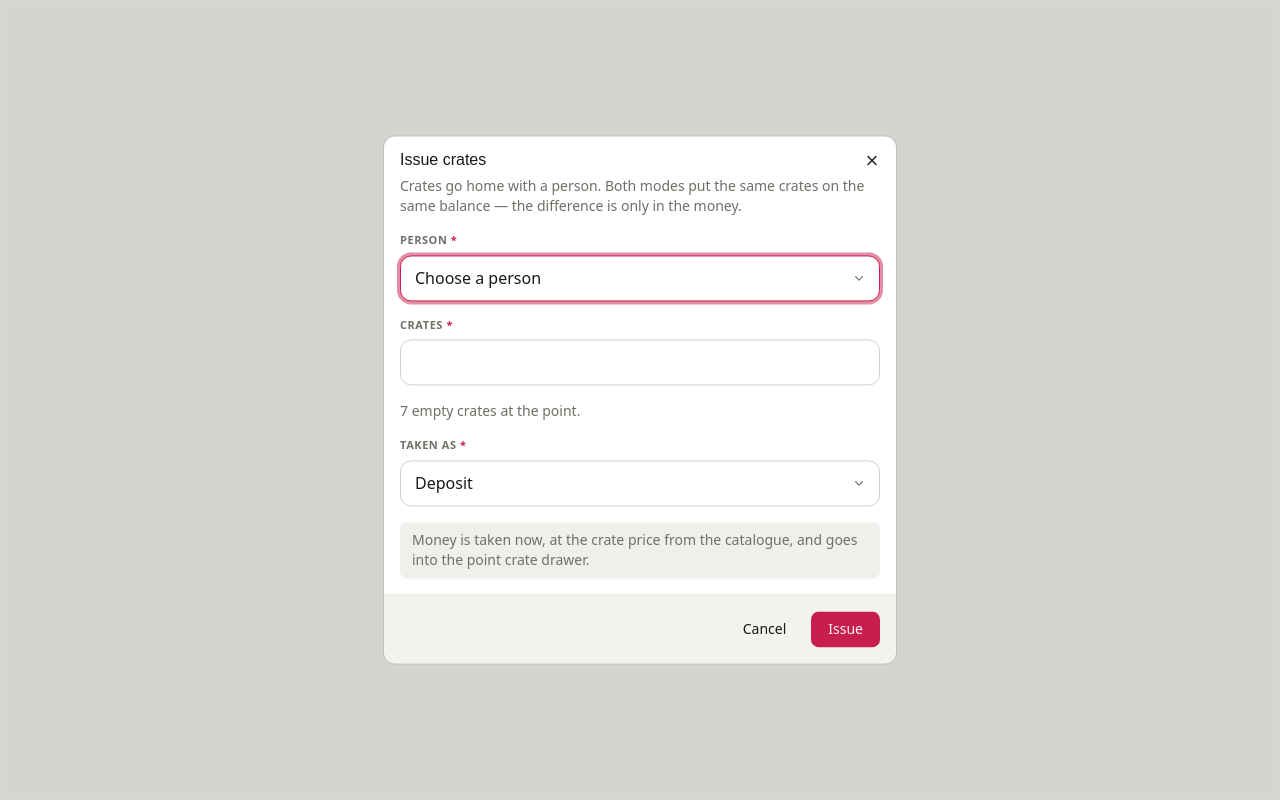
Test: IssueCratesDialog › refuses more than the point has, before asking the server
Select "Василь Яремчук" in the dropdown labelled "Person". click: coordinates (640, 278)
box: [400, 255, 880, 301]
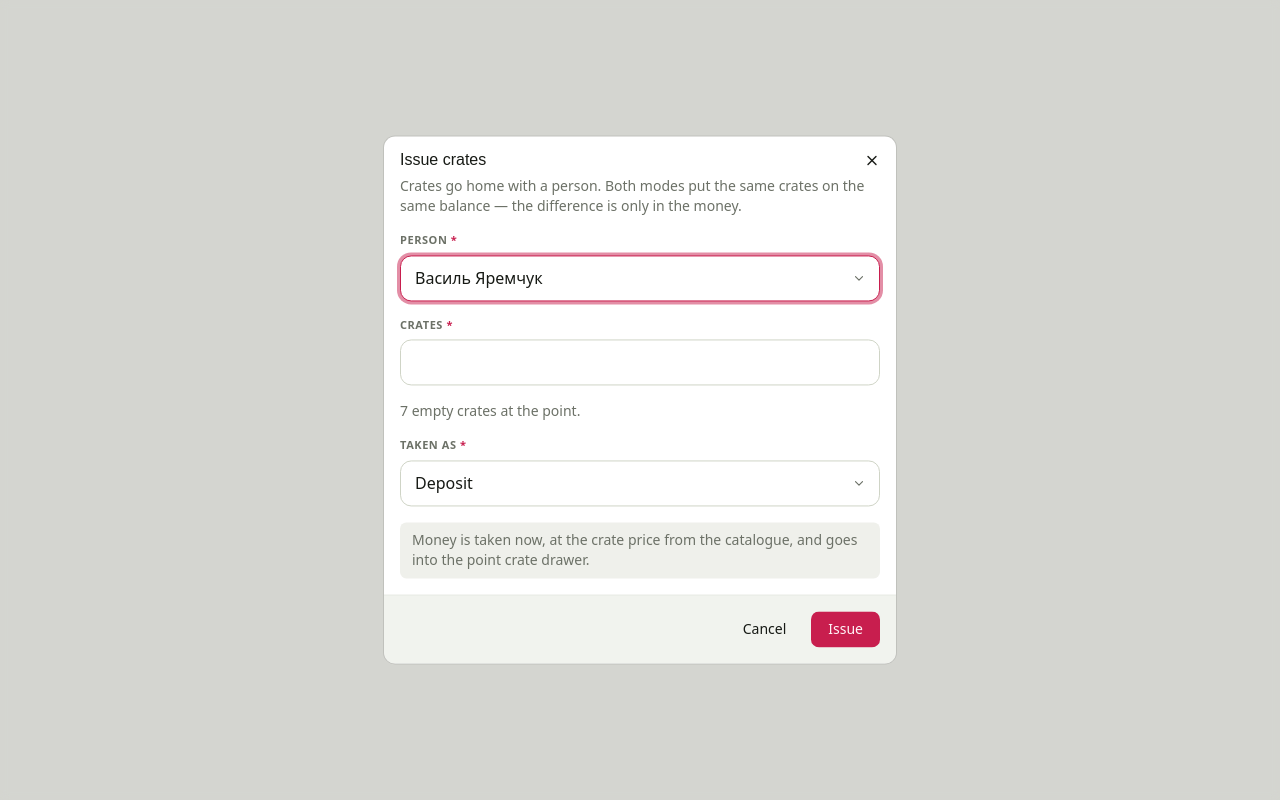
Type "8" into the field labelled "Crates". click: coordinates (640, 363)
box: [400, 340, 880, 386]
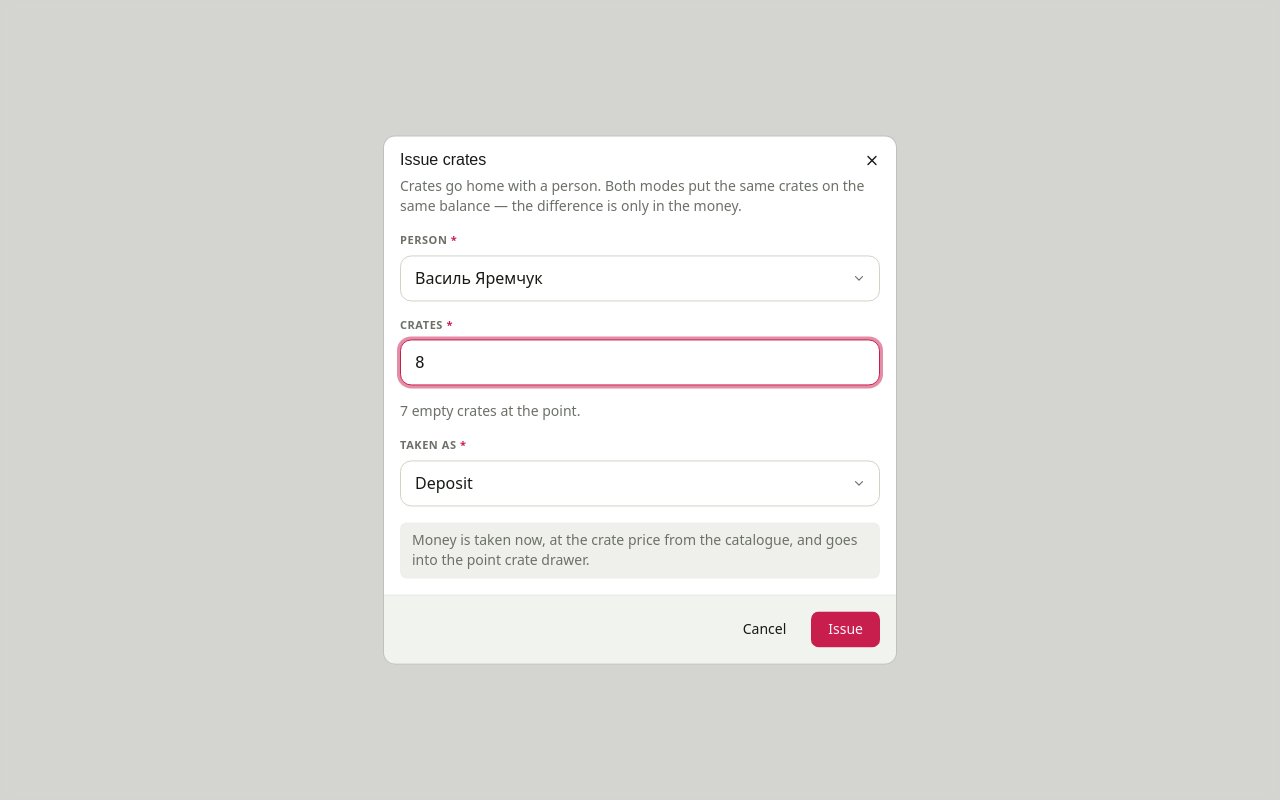
Click the button "Issue". click: coordinates (846, 630)
box: [811, 612, 880, 648]
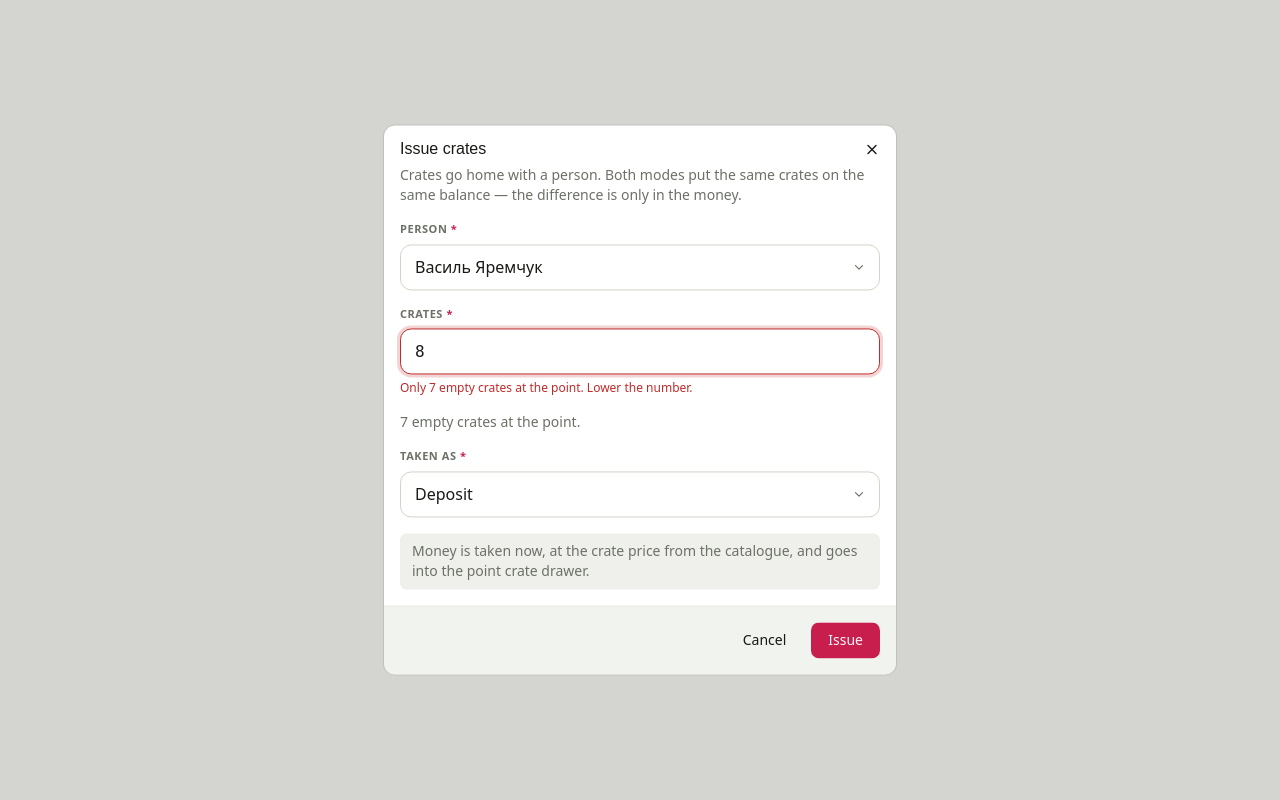
Result: the text "Only 7 empty crates at the point. Lower the number." is shown at [400, 380, 692, 397]
